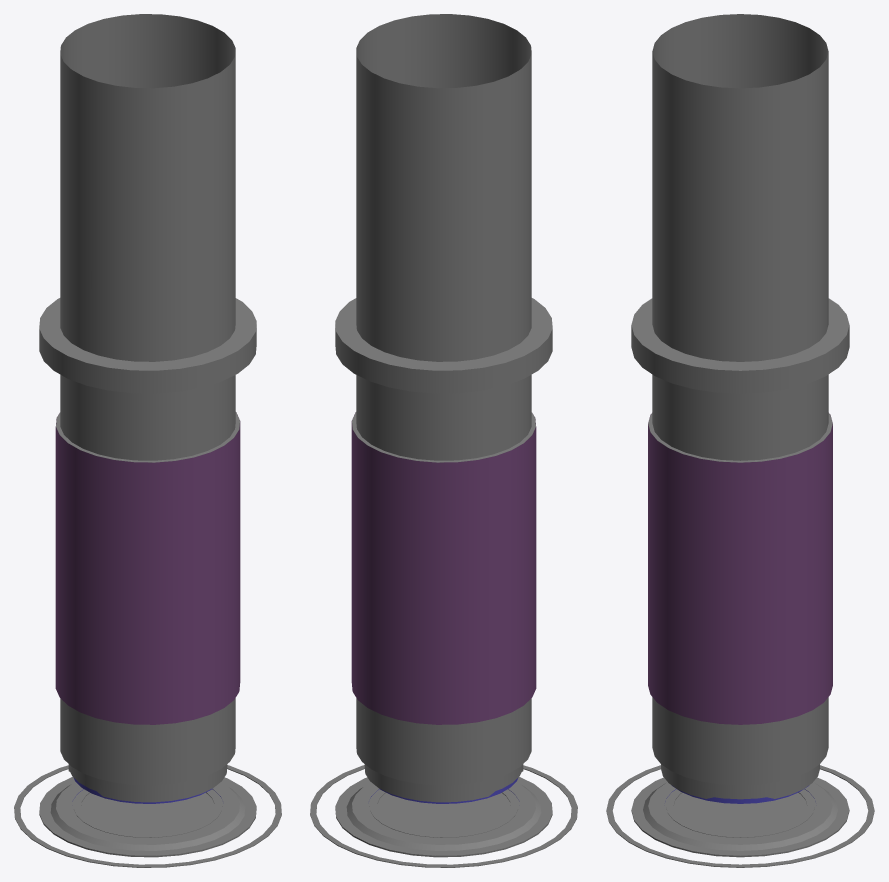
Rendered from MOb_Board_1x2_004.fbx.
3 views of the same model, side by side, from view 1: azimuth 30°, elevation 25°; view 2: azimuth 150°, elevation 25°; view 3: azimuth 270°, elevation 25° (orthographic).
Parts seen in each view (by area): view 1: MOb_board_1x2_04; view 2: MOb_board_1x2_04; view 3: MOb_board_1x2_04.
Boxes of the visible parts, box(x1,y1,x2,y2) form: MOb_board_1x2_04: box(14, 14, 281, 867); MOb_board_1x2_04: box(310, 14, 577, 867); MOb_board_1x2_04: box(606, 14, 874, 867).
Bounding box in the file's own units: 3.2 × 10 × 3.2.
